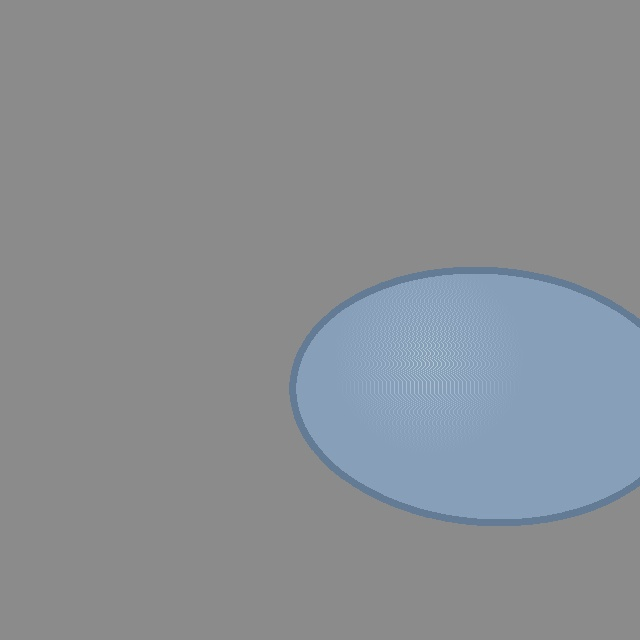lens: (292, 270, 640, 522)
